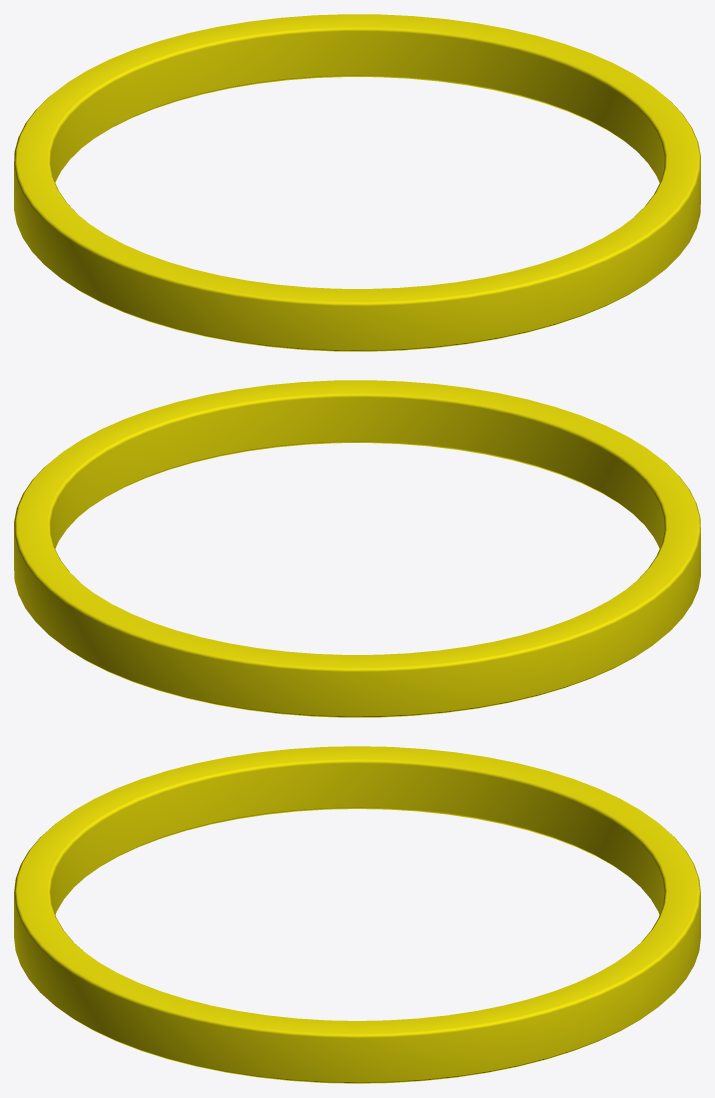
3 views of the same model, one above another, from view 1: azimuth 30°, elevation 25°; view 2: azimuth 150°, elevation 25°; view 3: azimuth 270°, elevation 25° (orthographic).
Visible parts, largest first — view 1: seal_body; view 2: seal_body; view 3: seal_body.
Boxes of the visible parts, box(x1,y1,x2,y2) form: seal_body: box(14, 14, 700, 351); seal_body: box(14, 380, 700, 717); seal_body: box(14, 746, 700, 1083).
Bounding box in the file's own units: 0.1778 × 0.0143 × 0.1778.
